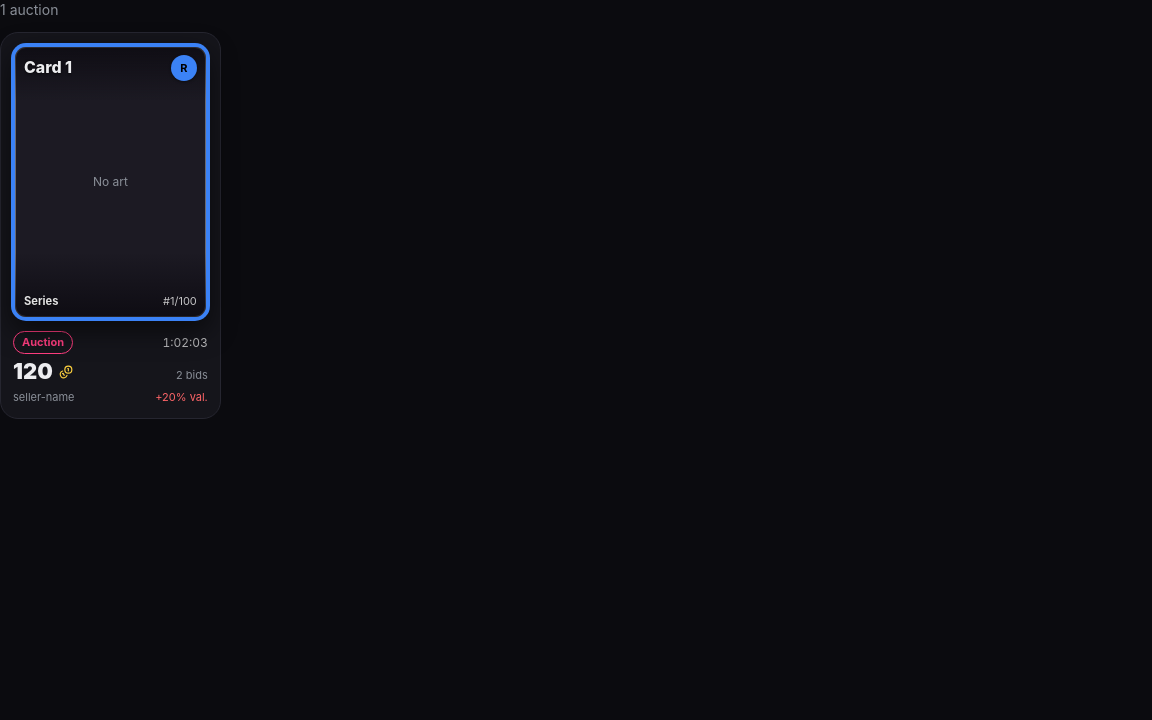
Test case: auction lot modal › disables bids above the balance
Click the button with aria-label "Bid on Card 1" at (110, 225), box [0, 32, 221, 419]
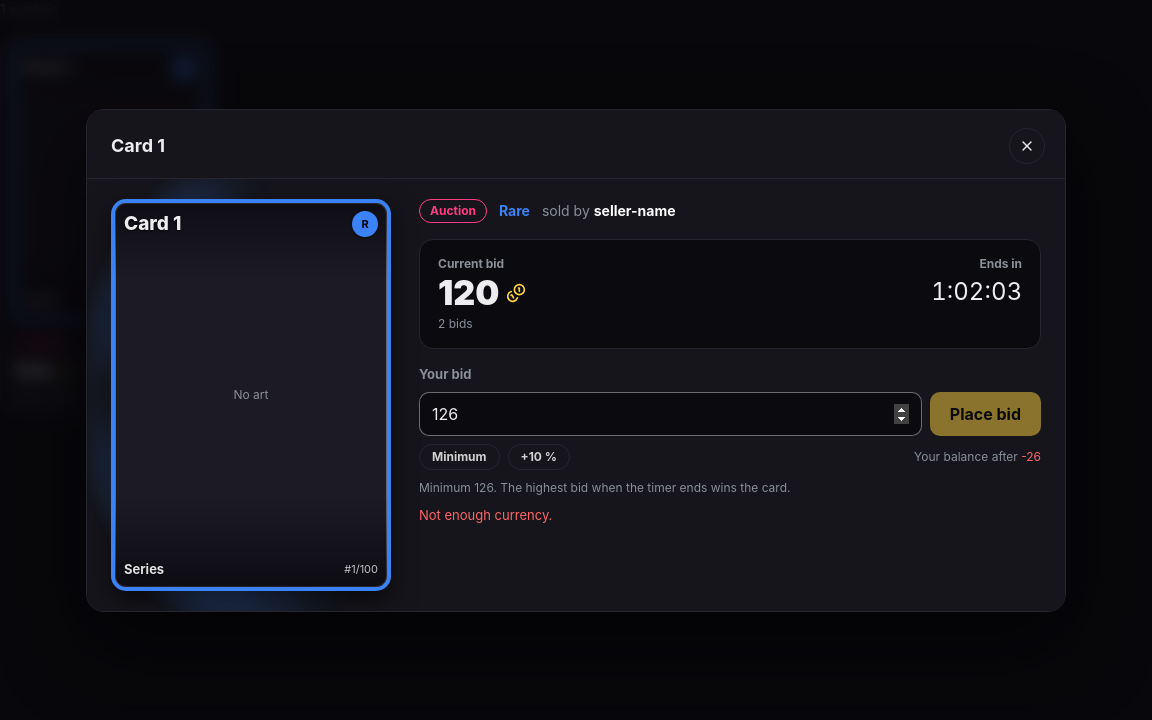
expect the dialog shows "Not enough currency.": met, box [419, 506, 552, 522]
expect the button "Place bid" is disabled: met, box [930, 392, 1041, 436]
